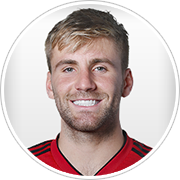smile: (66, 97, 104, 109)
